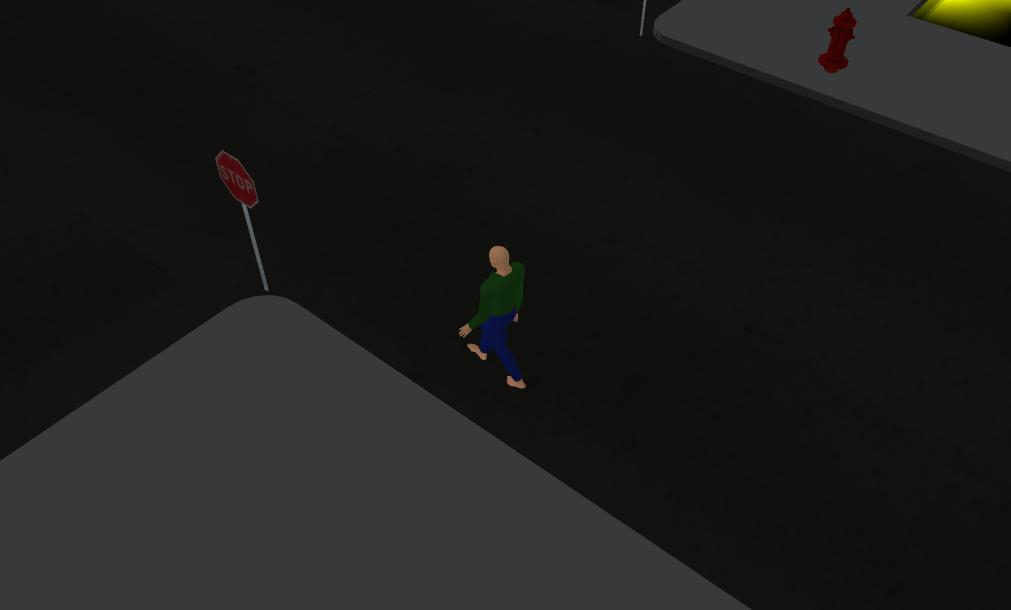fire hydrant: (807, 9, 860, 78)
human: (454, 221, 560, 402)
street sign: (202, 137, 305, 334)
